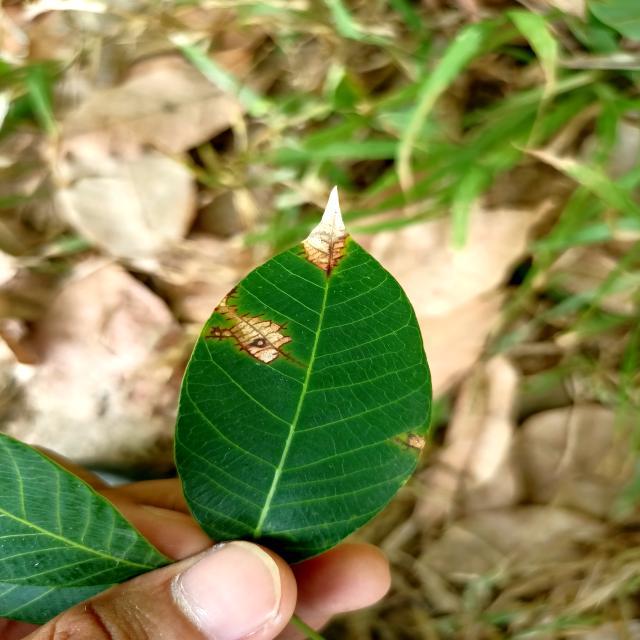Colletotrichum: (253, 338, 266, 347)
Corynespora: (206, 284, 303, 366), (296, 241, 344, 277), (394, 433, 421, 455)
Leaf-Blight: (305, 186, 349, 253)
